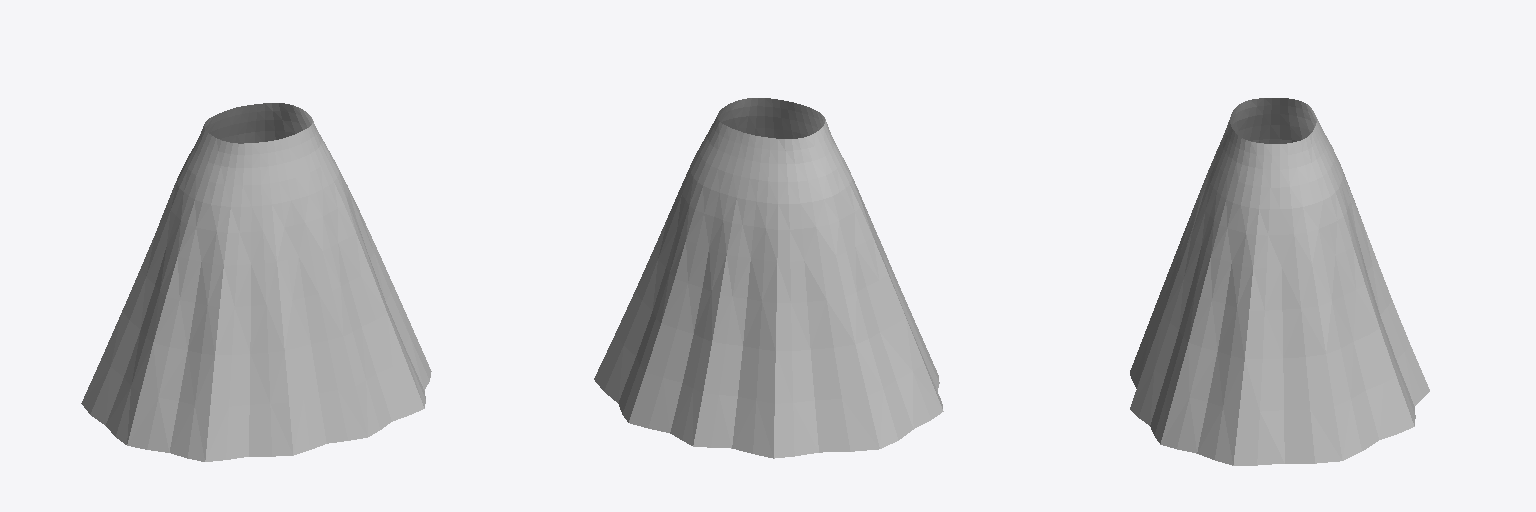
File: 2_skirtlongfullwavy.obj
3 renders of one model, left to right at view 1: azimuth 30°, elevation 25°; view 2: azimuth 150°, elevation 25°; view 3: azimuth 270°, elevation 25°, orthographic.
Visible parts, largest first — view 1: skirtfront, skirtbackleft, skirtback, skirtbackright; view 2: skirtback, skirtbackleft, skirtfront, skirtbackright; view 3: skirtfront, skirtbackright, skirtback, skirtbackleft.
Part boxes in pixels (x1,y1,x2,y2): skirtfront: (106, 110, 431, 461); skirtbackleft: (81, 116, 213, 425); skirtback: (207, 103, 264, 143); skirtbackright: (265, 103, 310, 141); skirtback: (629, 126, 777, 458); skirtbackleft: (774, 133, 913, 458); skirtfront: (717, 98, 943, 428); skirtbackright: (594, 110, 726, 422); skirtfront: (1130, 98, 1284, 465); skirtbackright: (1280, 133, 1414, 463); skirtback: (1312, 111, 1429, 425); skirtbackleft: (1280, 98, 1316, 143).
Bounding box in the file's own units: 29.65 × 25.22 × 25.37.